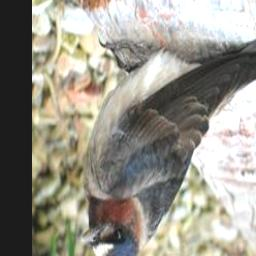Swallow: (75, 20, 256, 256)
